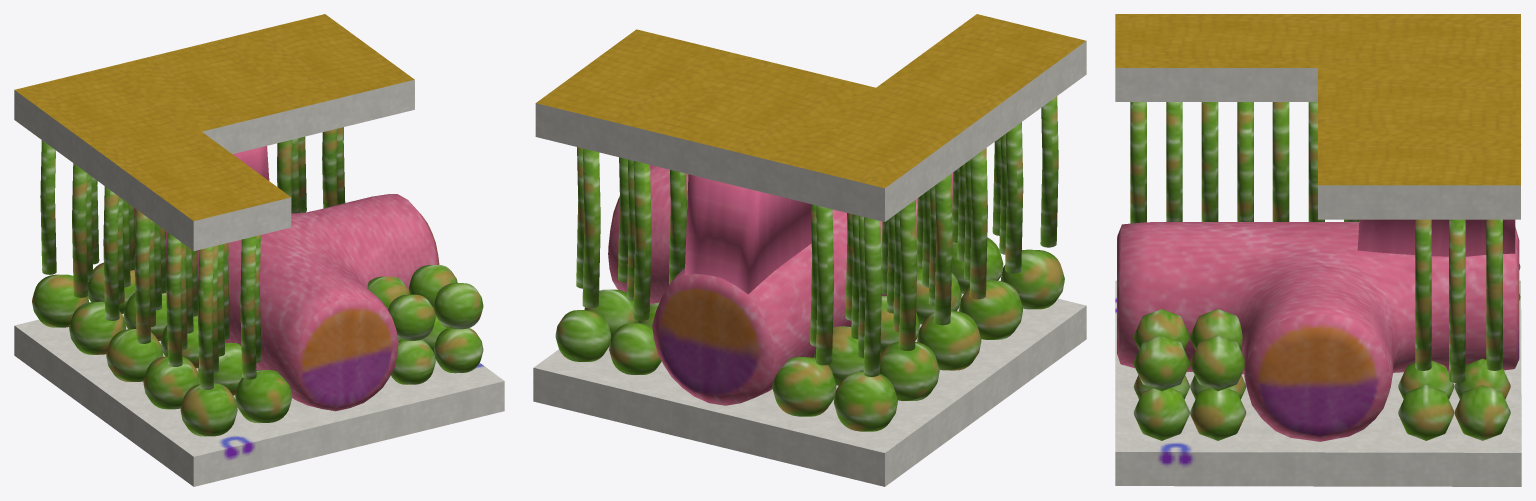
The model's file is SelDaunKotak.fbx.
The picture shows the model from 3 angles, left to right: view 1: azimuth 30°, elevation 25°; view 2: azimuth 150°, elevation 25°; view 3: azimuth 270°, elevation 25°; orthographic projection. The views are drawn at different scales.
Parts seen in each view (by area): view 1: SelDaunKotak; view 2: SelDaunKotak; view 3: SelDaunKotak.
Part boxes in pixels (bbox=[...]): SelDaunKotak: bbox=[14, 14, 504, 486]; SelDaunKotak: bbox=[533, 14, 1086, 486]; SelDaunKotak: bbox=[1115, 14, 1521, 486].
Bounding box in the file's own units: 1263 × 1026 × 1258.
